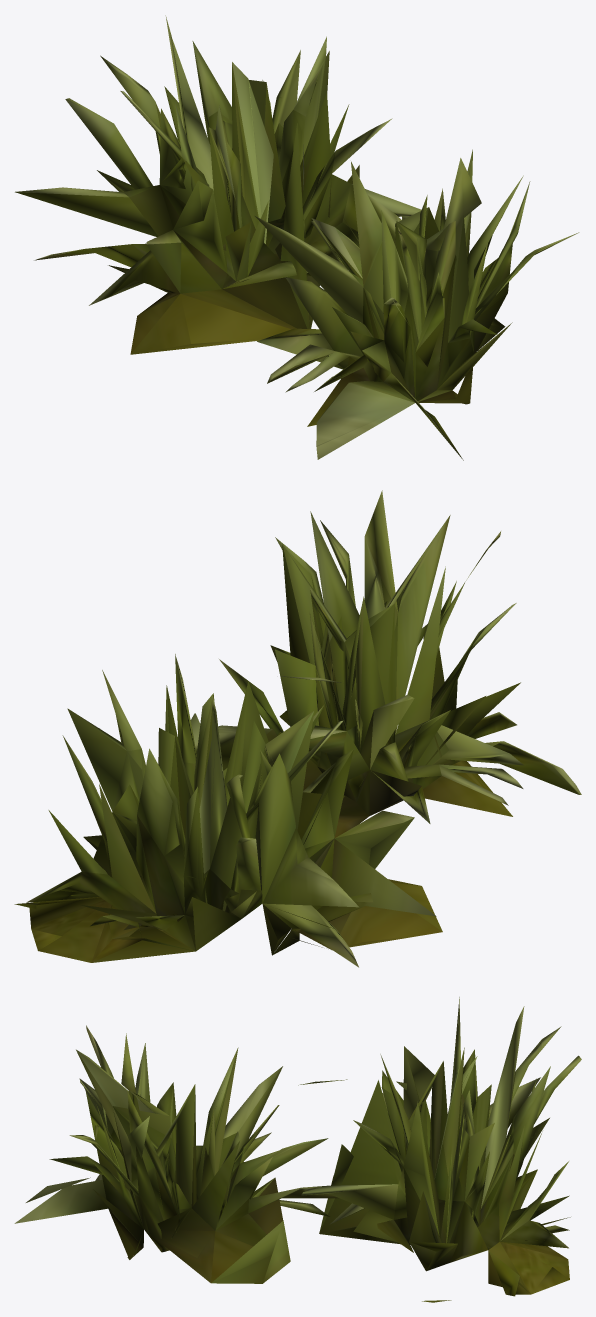
Rendered from grass.glb.
The picture shows the model from 3 angles, top to bottom: view 1: azimuth 30°, elevation 25°; view 2: azimuth 150°, elevation 25°; view 3: azimuth 270°, elevation 25°; orthographic projection. The views are drawn at different scales.
Visible parts, largest first — view 1: tripo_node_083465db-fdb7-4c1e-b9a6-9021adc70611; view 2: tripo_node_083465db-fdb7-4c1e-b9a6-9021adc70611; view 3: tripo_node_083465db-fdb7-4c1e-b9a6-9021adc70611.
Part boxes in pixels (x1=…): tripo_node_083465db-fdb7-4c1e-b9a6-9021adc70611: x1=15, y1=15, x2=579, y2=460; tripo_node_083465db-fdb7-4c1e-b9a6-9021adc70611: x1=14, y1=490, x2=581, y2=967; tripo_node_083465db-fdb7-4c1e-b9a6-9021adc70611: x1=14, y1=997, x2=581, y2=1302.
Bounding box in the file's own units: 0.5275 × 0.3934 × 0.893.
Materials: 1 (1 with a texture image).
